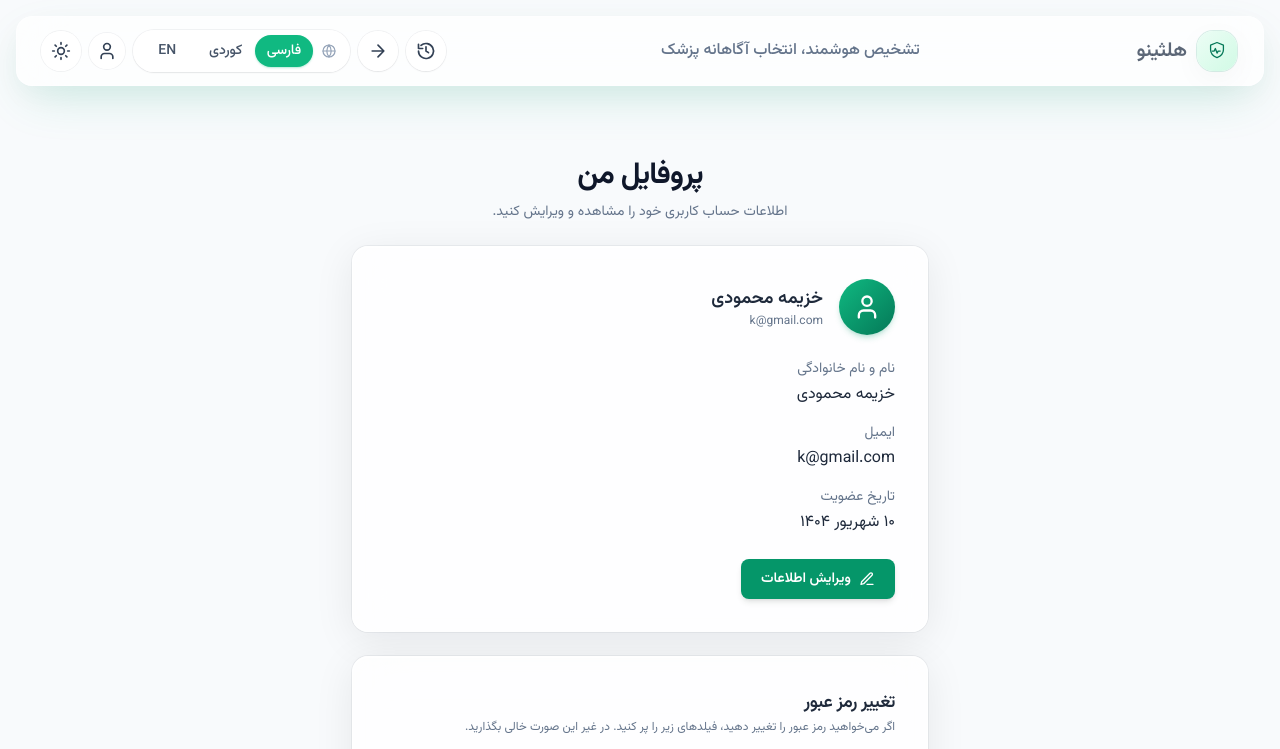
UserProfile.vue › saves edits via auth.updateProfile, returns to view mode and shows the saved banner
Step 1. Click the button with test id "profile-edit-button" → (818, 579), box [741,559,895,599]
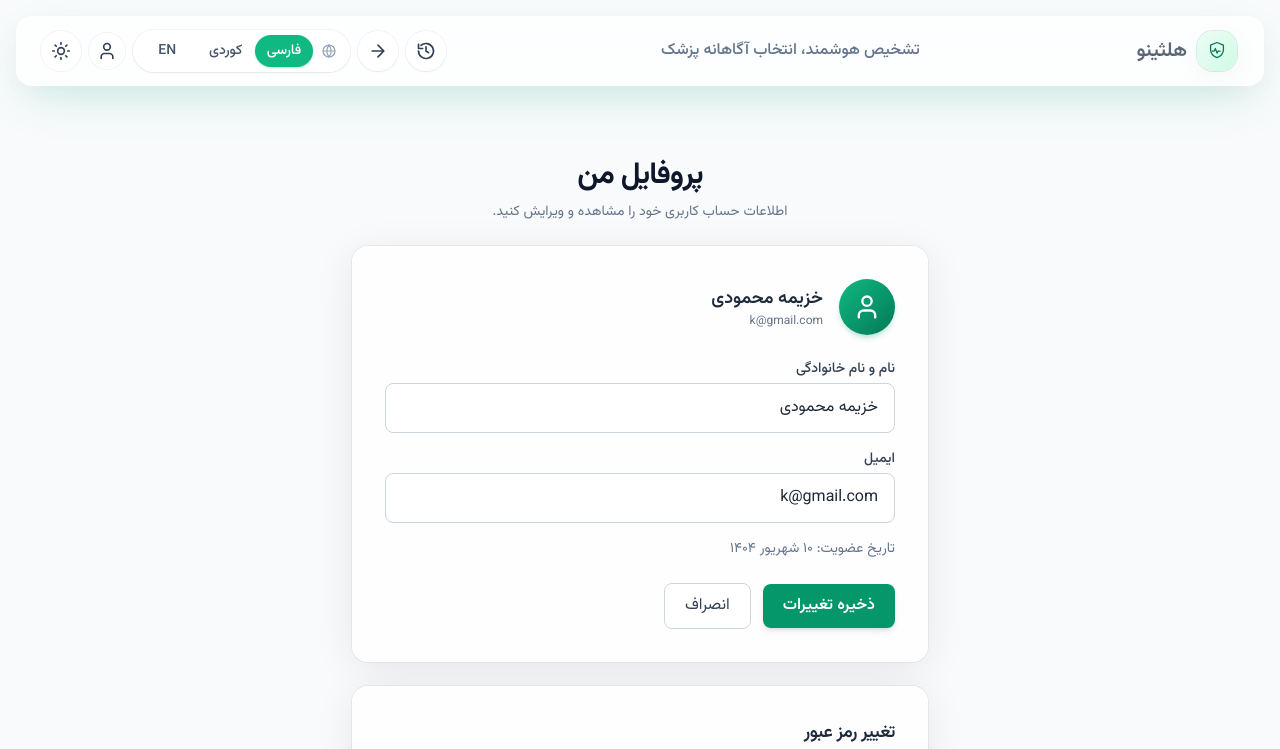
Step 2. Replace the text in the field with test id "profile-name-input" with "Sara K" → (640, 408), box [385,383,895,433]
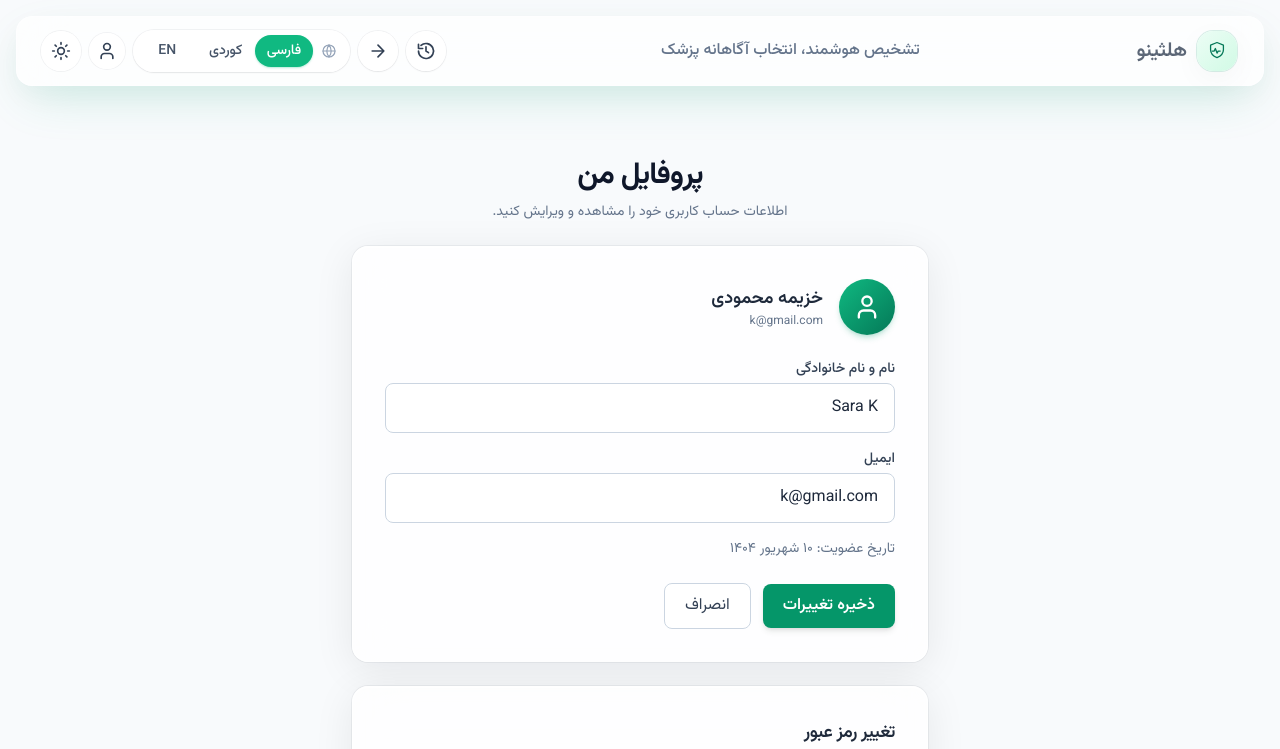
Step 3. Replace the text in the field with test id "profile-email-input" with "  Sara@Example.IO  " → (640, 498), box [385,473,895,523]
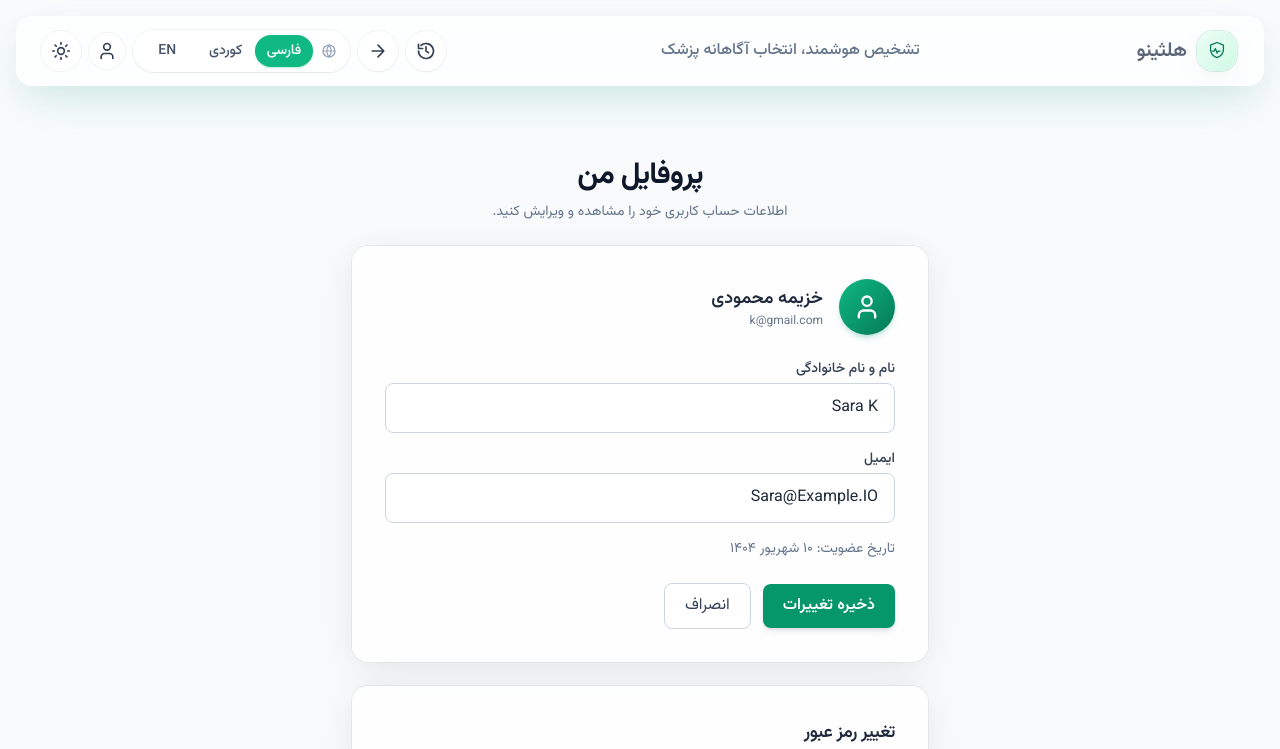
Step 4. Submit the form with test id "profile-edit-form", box [385,359,895,629]
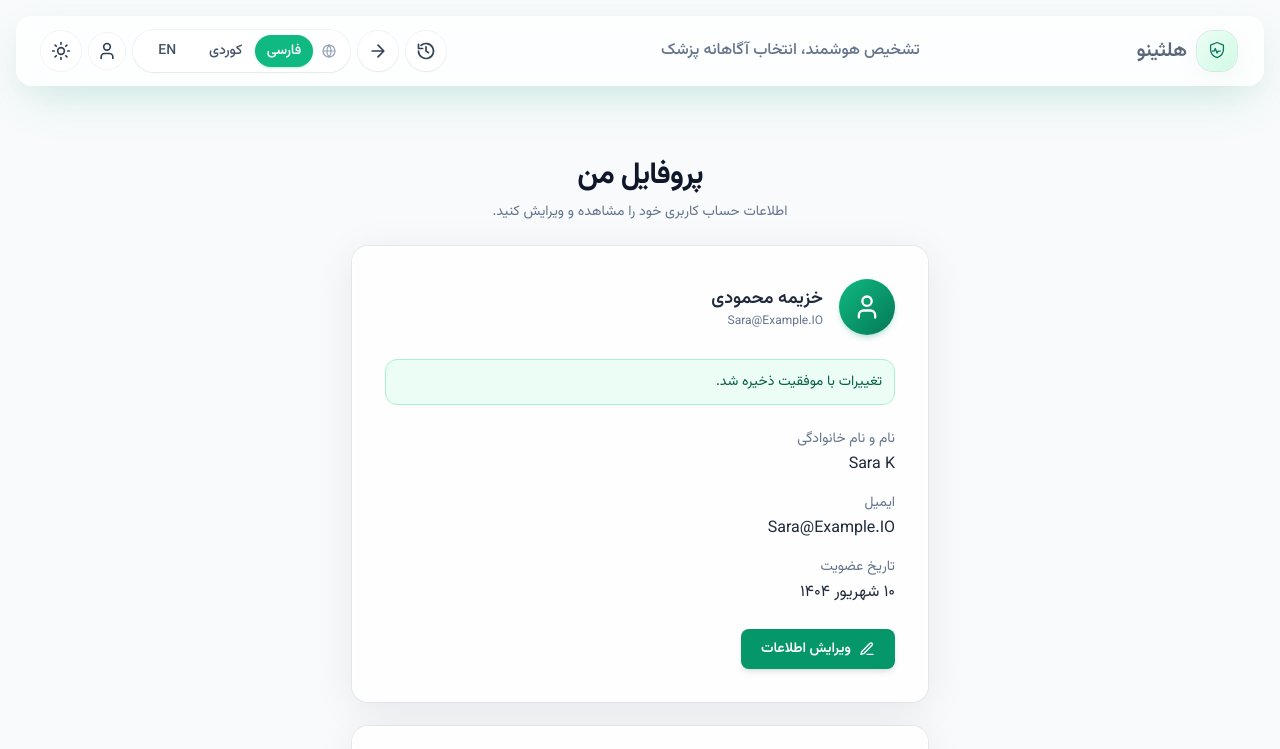
Result: the message "تغییرات با موفقیت ذخیره شد." is shown at [385,359,895,405]
Result: the text with test id "profile-name-text" reads "Sara K" at [849,452,895,477]
